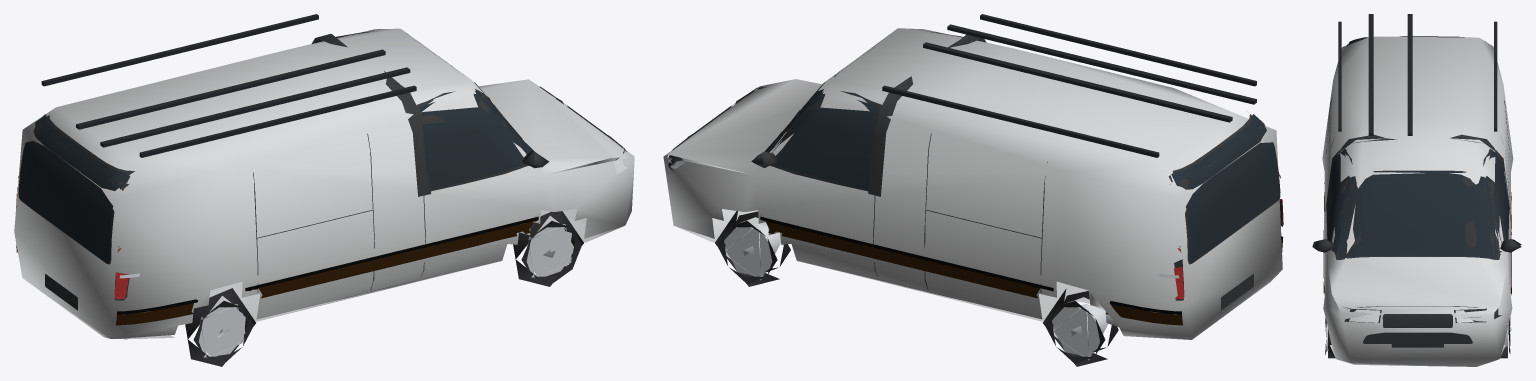
Rendered from pro_elec_ufar.glb.
The picture shows the model from 3 angles, left to right: view 1: azimuth 30°, elevation 25°; view 2: azimuth 150°, elevation 25°; view 3: azimuth 270°, elevation 25°; orthographic projection. The views are drawn at different scales.
Parts seen in each view (by area): view 1: Body, RearGlass, Glass-1, ProStripe-1, WheelFR, WheelRR, LadderRail-1, LadderRail1, RackRail1, RackRail-1, ProAccent-1, Bpillar-1 (+2 smaller); view 2: Body, RearGlass, Glass1, ProStripe1, WheelRL, WheelFL, LadderRail1, LadderRail-1, RackRail1, RackRail-1, Bpillar1, ProAccent1 (+2 smaller); view 3: Body, Windshield, Glass-1, Intake, Glass1, WsFrame, Grille, LadderRail1, LadderRail-1, HeadReflector, RackRail-1, RackRail1 (+10 smaller).
Boxes of the visible parts, x1=… form: Body: x1=14, y1=28, x2=634, y2=338; RearGlass: x1=19, y1=114, x2=130, y2=261; Glass-1: x1=419, y1=93, x2=530, y2=189; ProStripe-1: x1=116, y1=220, x2=537, y2=325; WheelFR: x1=513, y1=211, x2=583, y2=286; WheelRR: x1=185, y1=288, x2=255, y2=366; LadderRail-1: x1=100, y1=67, x2=410, y2=147; LadderRail1: x1=76, y1=49, x2=385, y2=129; RackRail1: x1=41, y1=14, x2=318, y2=86; RackRail-1: x1=139, y1=85, x2=416, y2=157; ProAccent-1: x1=117, y1=216, x2=538, y2=314; Bpillar-1: x1=384, y1=71, x2=431, y2=196; Body: x1=663, y1=28, x2=1282, y2=339; RearGlass: x1=1168, y1=114, x2=1279, y2=261; Glass1: x1=772, y1=93, x2=879, y2=189; ProStripe1: x1=765, y1=221, x2=1182, y2=325; WheelRL: x1=1043, y1=288, x2=1118, y2=366; WheelFL: x1=715, y1=211, x2=790, y2=286; LadderRail1: x1=923, y1=42, x2=1232, y2=122; LadderRail-1: x1=947, y1=24, x2=1256, y2=104; RackRail1: x1=882, y1=85, x2=1159, y2=157; RackRail-1: x1=980, y1=14, x2=1256, y2=86; Bpillar1: x1=868, y1=76, x2=912, y2=196; ProAccent1: x1=760, y1=216, x2=1181, y2=314; Body: x1=1322, y1=36, x2=1513, y2=366; Windshield: x1=1338, y1=171, x2=1497, y2=258; Glass-1: x1=1326, y1=150, x2=1361, y2=252; Intake: x1=1363, y1=332, x2=1472, y2=343; Glass1: x1=1474, y1=150, x2=1509, y2=252; WsFrame: x1=1335, y1=170, x2=1500, y2=259; Grille: x1=1382, y1=314, x2=1452, y2=327; LadderRail1: x1=1407, y1=14, x2=1412, y2=135; LadderRail-1: x1=1368, y1=14, x2=1373, y2=135; HeadReflector: x1=1331, y1=301, x2=1500, y2=322; RackRail-1: x1=1338, y1=21, x2=1341, y2=131; RackRail1: x1=1494, y1=21, x2=1497, y2=131.
Size of the model in its own units: 5.01 by 2.05 by 2.15.
